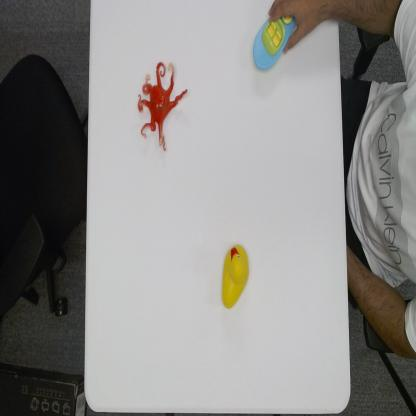Boat: (252, 10, 293, 73)
Duck: (220, 243, 250, 310)
Hand: (266, 0, 335, 52)
Octopus: (137, 60, 188, 152)
